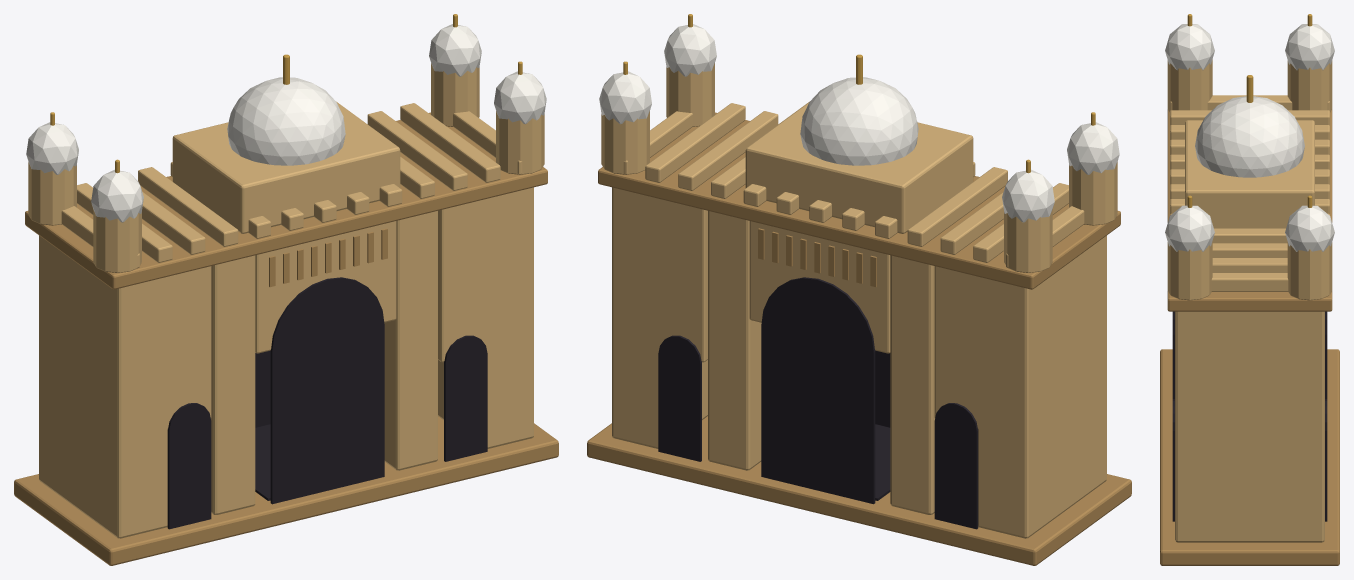
The model's file is gateway_arch.glb.
The picture shows the model from 3 angles, left to right: view 1: azimuth 30°, elevation 25°; view 2: azimuth 150°, elevation 25°; view 3: azimuth 270°, elevation 25°; orthographic projection. The views are drawn at different scales.
Parts seen in each view (by area): view 1: gateway_arch; view 2: gateway_arch; view 3: gateway_arch.
Part boxes in pixels (x1,y1,x2,y2): gateway_arch: [14, 14, 558, 565]; gateway_arch: [587, 14, 1131, 565]; gateway_arch: [1160, 14, 1339, 565].
Size of the model in its own units: 9.6 by 8.6 by 3.6.
